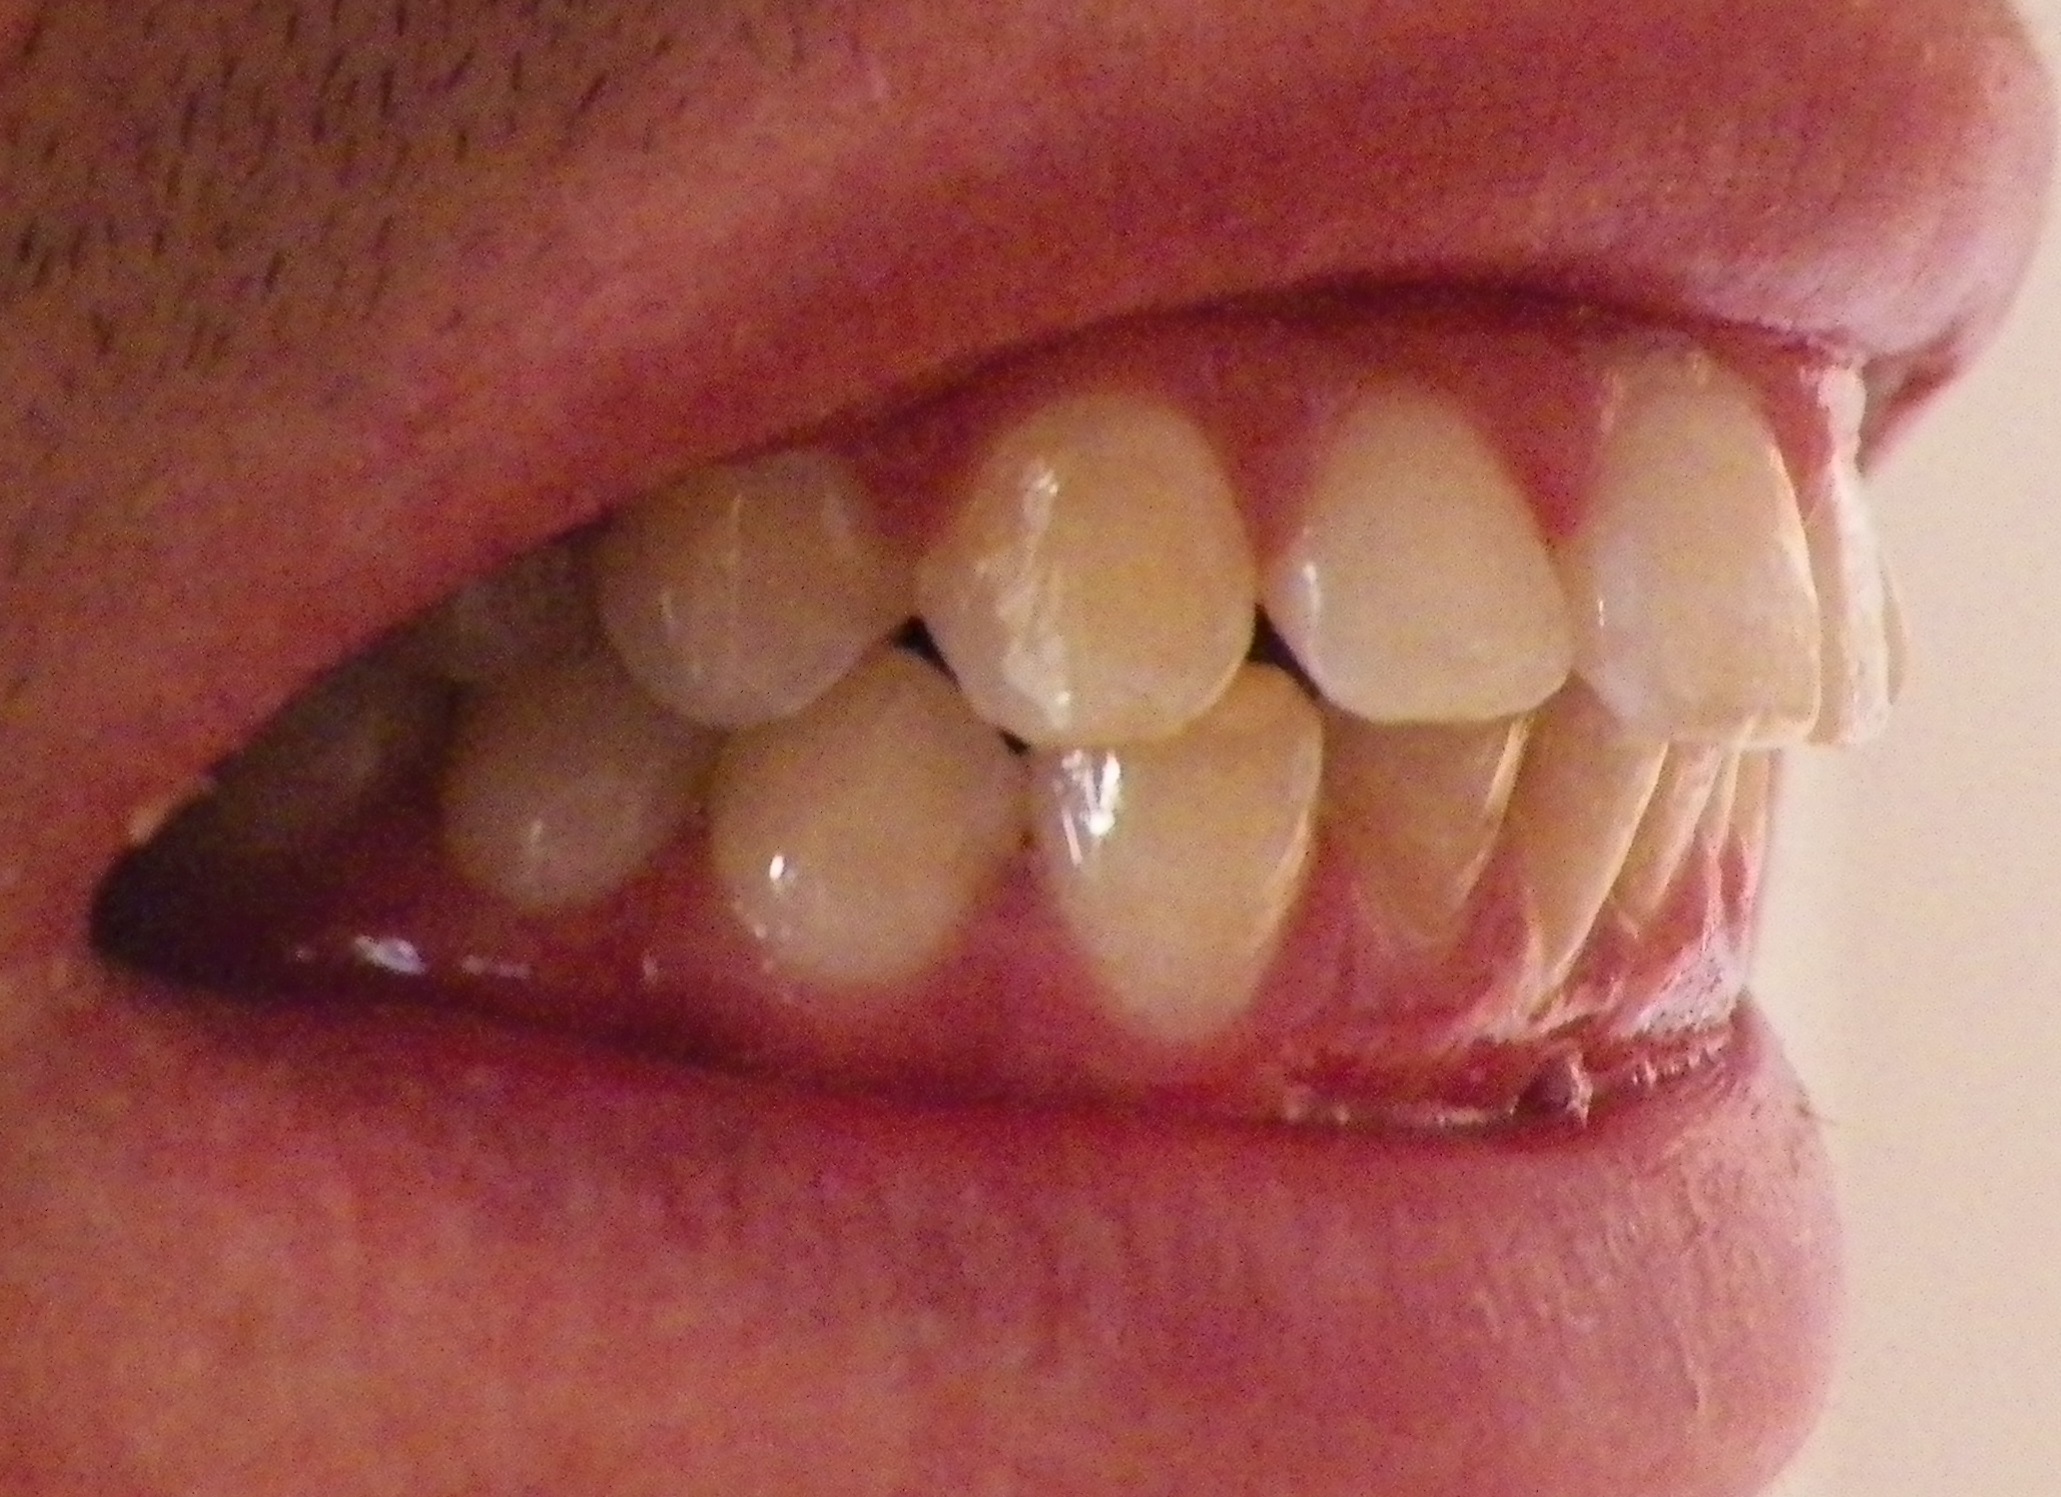boca: (157, 406, 1915, 1056)
